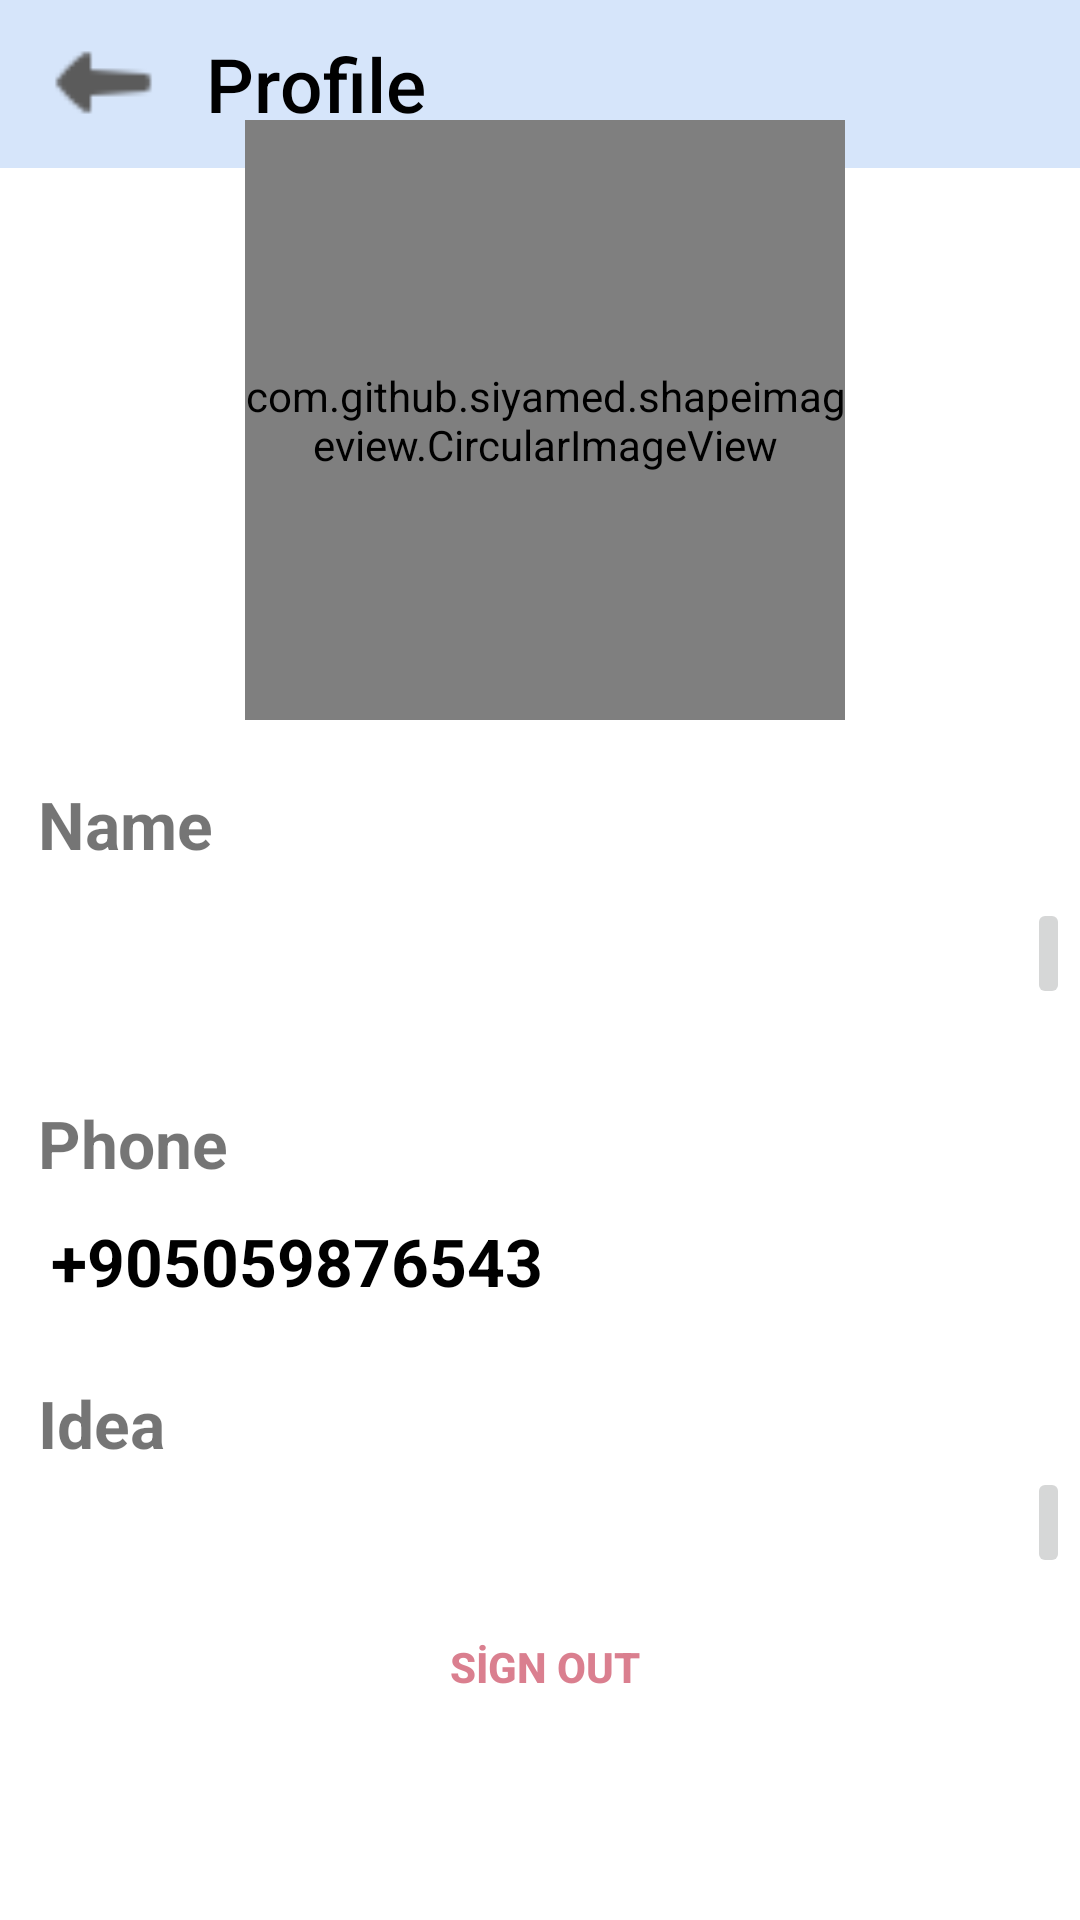

Where icons sit on this 1080*1920 app screen, as (x1, y1, x2, y2):
back: (55, 51, 152, 114)
